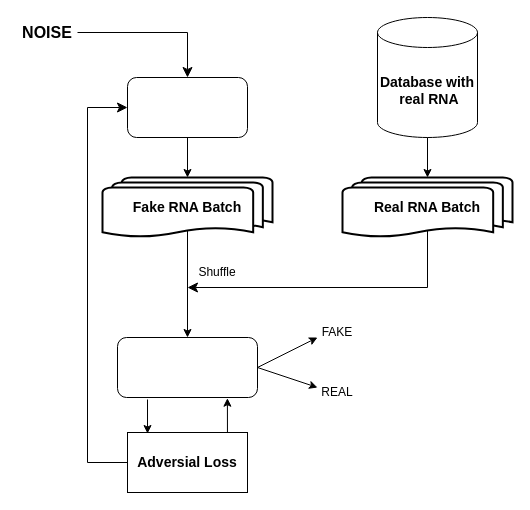
Some shapes in this 530 by 510 pixel diagram are drawn without their labels. Each missing label, with the box of its shape:
DiscriminatorRNA: (116, 336, 258, 398)
GeneratorRNA: (126, 76, 248, 138)
